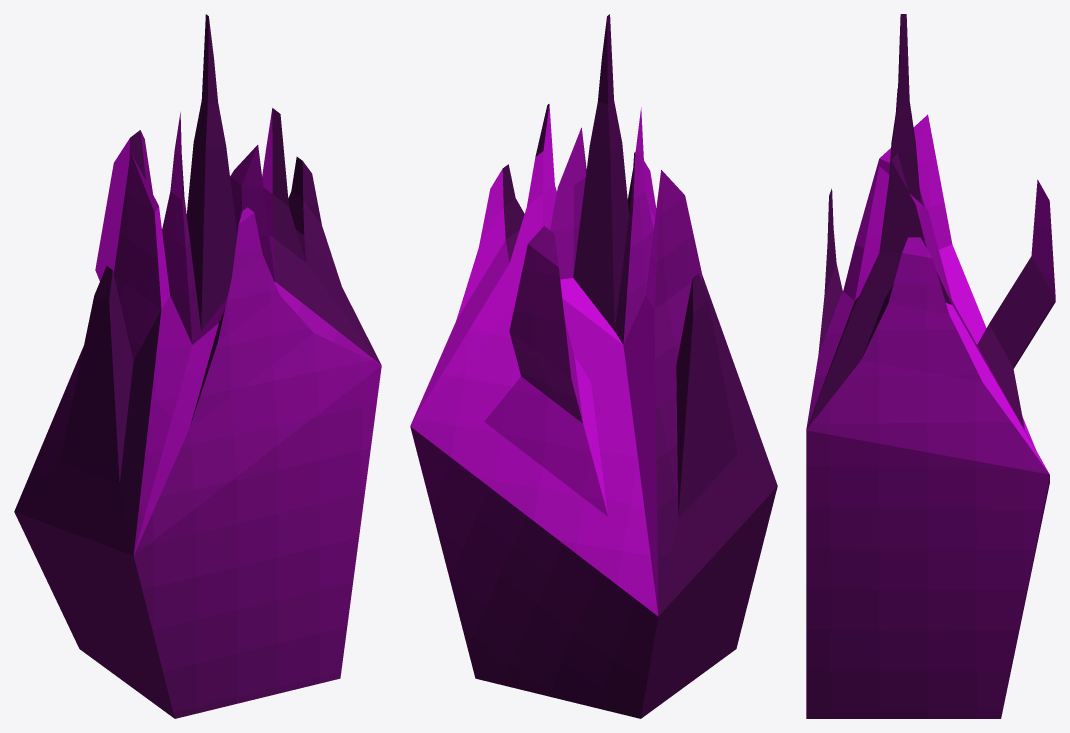
Rendered from TeleportCrystal.fbx.
3 views of the same model, side by side, from view 1: azimuth 30°, elevation 25°; view 2: azimuth 150°, elevation 25°; view 3: azimuth 270°, elevation 25° (orthographic). The views are drawn at different scales.
Visible parts, largest first — view 1: cuboid; view 2: cuboid; view 3: cuboid.
Part boxes in pixels (bbox=[...]): cuboid: bbox=[14, 14, 381, 718]; cuboid: bbox=[410, 14, 777, 718]; cuboid: bbox=[806, 14, 1055, 718].
Bounding box in the file's own units: 37.5 × 93.75 × 32.02.
1 material, 1 textured.
